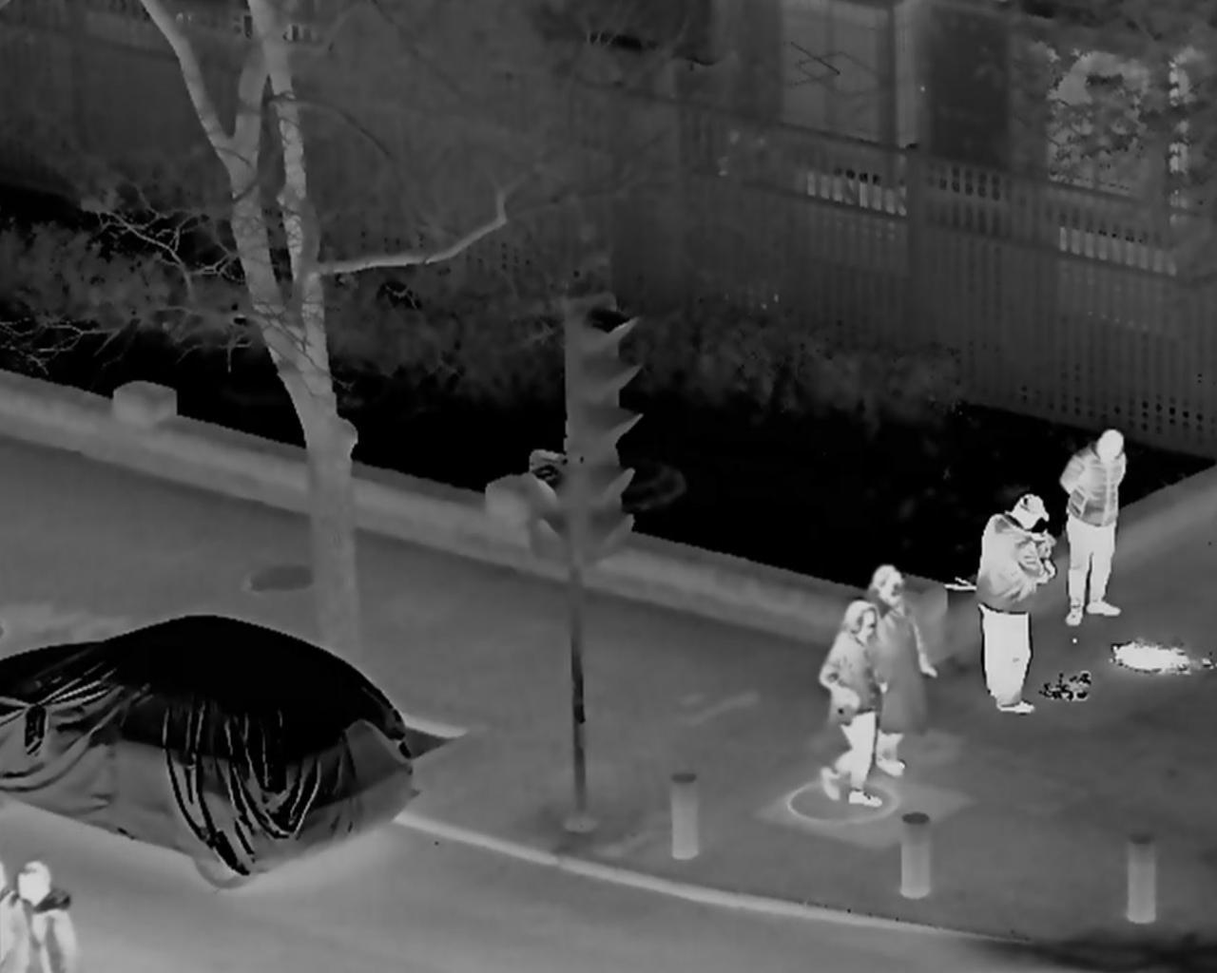person: (971, 493, 1054, 714), (859, 565, 936, 782), (1061, 426, 1130, 631), (820, 602, 884, 815), (15, 858, 75, 973)
